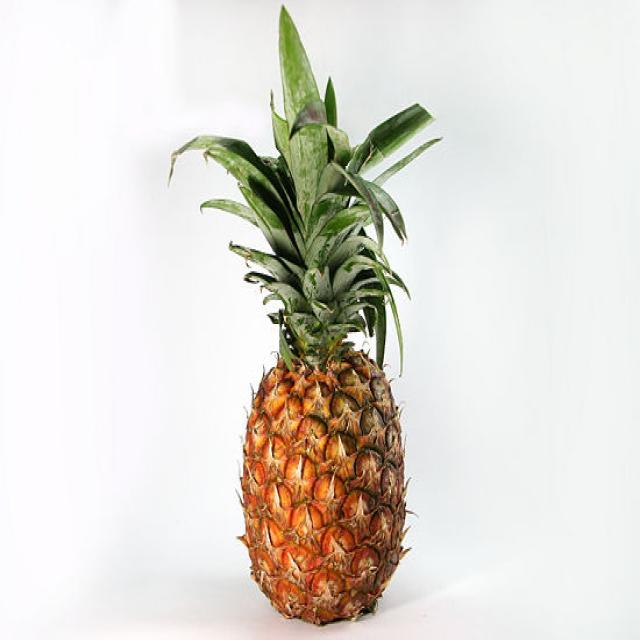pineapple: (235, 273, 420, 630)
